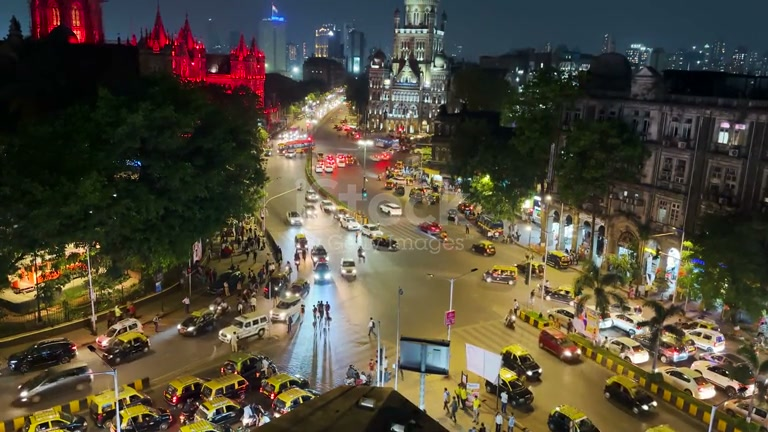car: (13, 363, 94, 405), (691, 357, 753, 397), (7, 339, 78, 373), (94, 323, 152, 364), (602, 379, 660, 417), (538, 327, 584, 365), (500, 344, 543, 384), (218, 314, 268, 346), (547, 403, 601, 432), (240, 354, 278, 390), (273, 387, 319, 416), (179, 313, 221, 337), (598, 316, 637, 338), (482, 264, 517, 285), (277, 286, 304, 308), (469, 240, 497, 256), (340, 259, 358, 280), (286, 210, 304, 227)
